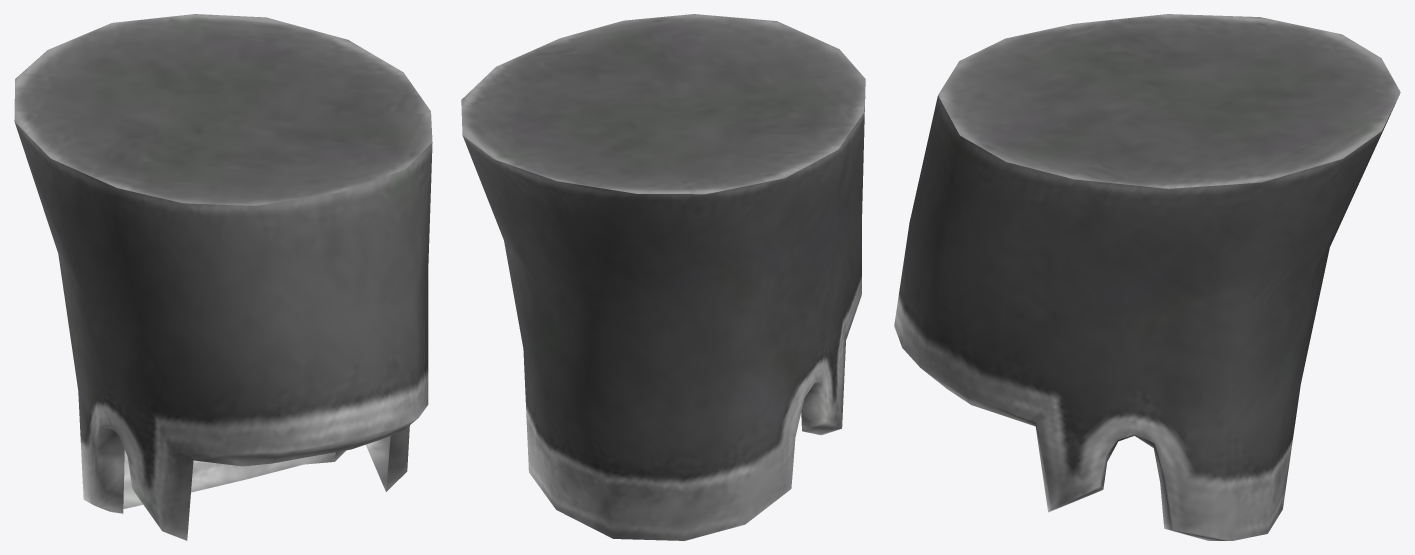
File: rider-helmet-slice-base.glb
The picture shows the model from 3 angles, left to right: view 1: azimuth 30°, elevation 25°; view 2: azimuth 150°, elevation 25°; view 3: azimuth 270°, elevation 25°; orthographic projection. The views are drawn at different scales.
Size of the model in its own units: 0.2697 by 0.3051 by 0.3308.
Materials: 1 (1 with a texture image).
